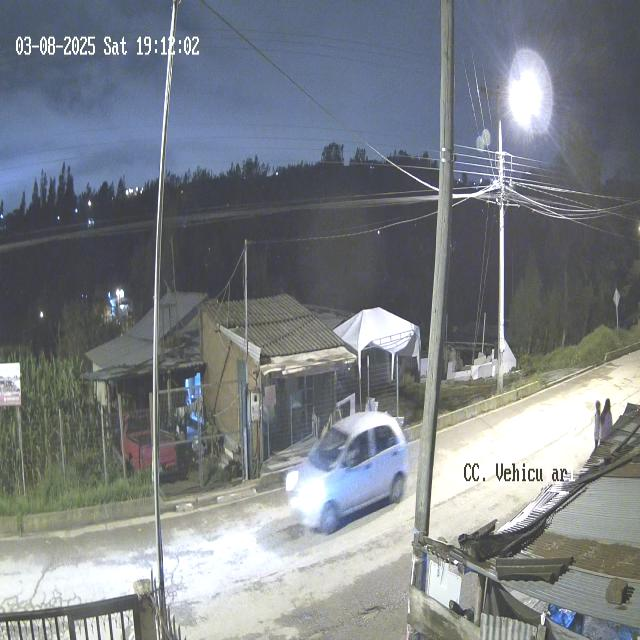SED: (286, 409, 410, 535)
